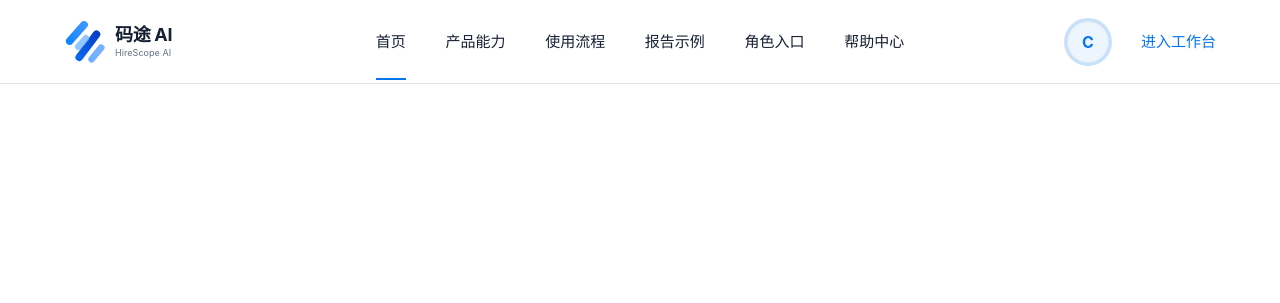
Test: SiteHeader › shows the shared account menu and workbench action after the access token is validated
Expected: the link "登录" is not shown
Hover over the element showing "C".
mouse_move(1088, 42)  # box [1067, 20, 1109, 62]
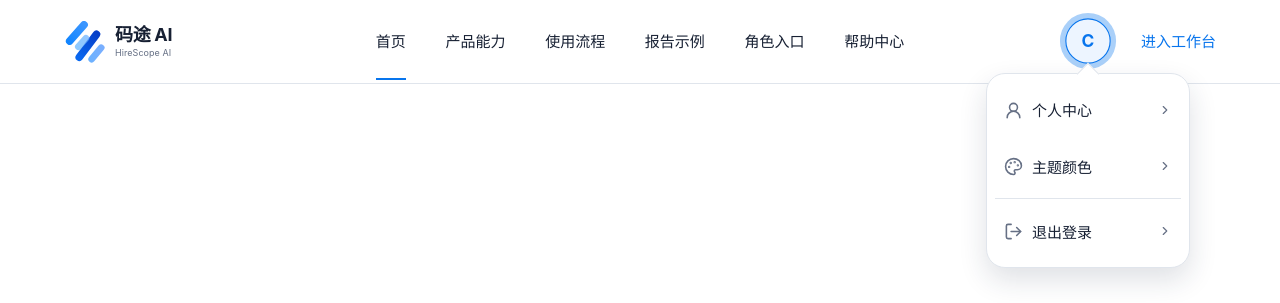
Expected: the menu item "主题颜色" is shown, [995, 138, 1181, 194]
Expected: the menu item "退出登录" is shown, [995, 202, 1181, 258]
